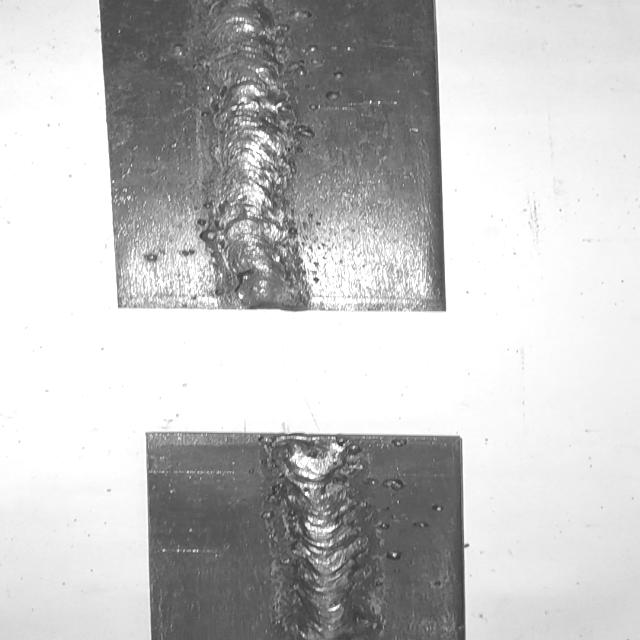Good Weld: (206, 0, 297, 301), (276, 437, 364, 640)
